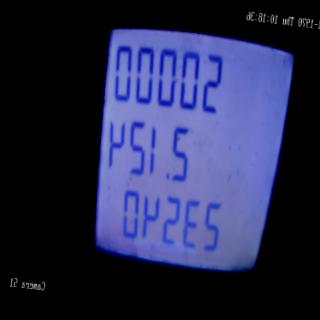screen: (72, 0, 306, 308)
